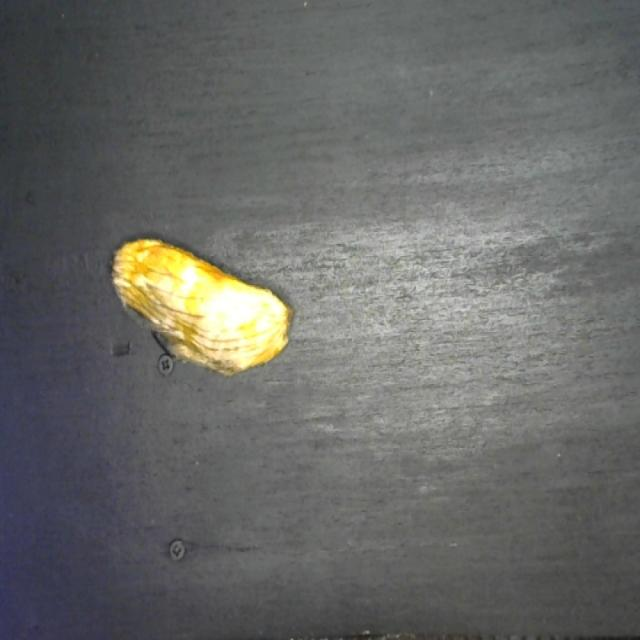biodegradable: (106, 226, 295, 385)
